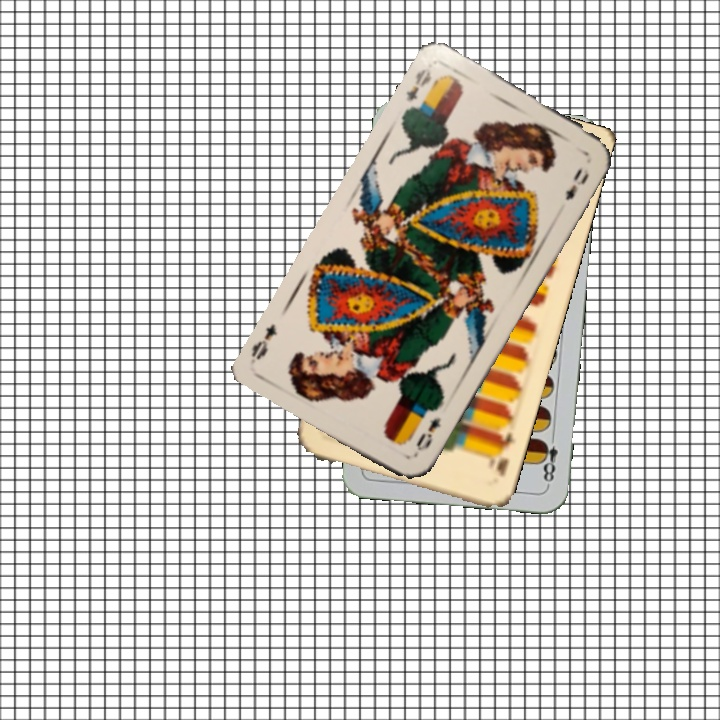E10: (485, 428, 519, 479)
E8: (536, 429, 560, 488)
EO: (410, 413, 444, 459), (401, 63, 434, 104)
